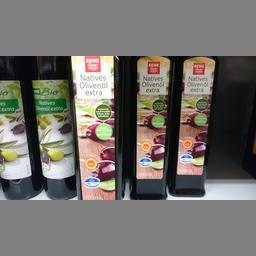oil: (68, 55, 122, 198), (28, 55, 76, 198), (126, 55, 172, 199), (170, 54, 216, 196), (0, 55, 41, 198)
